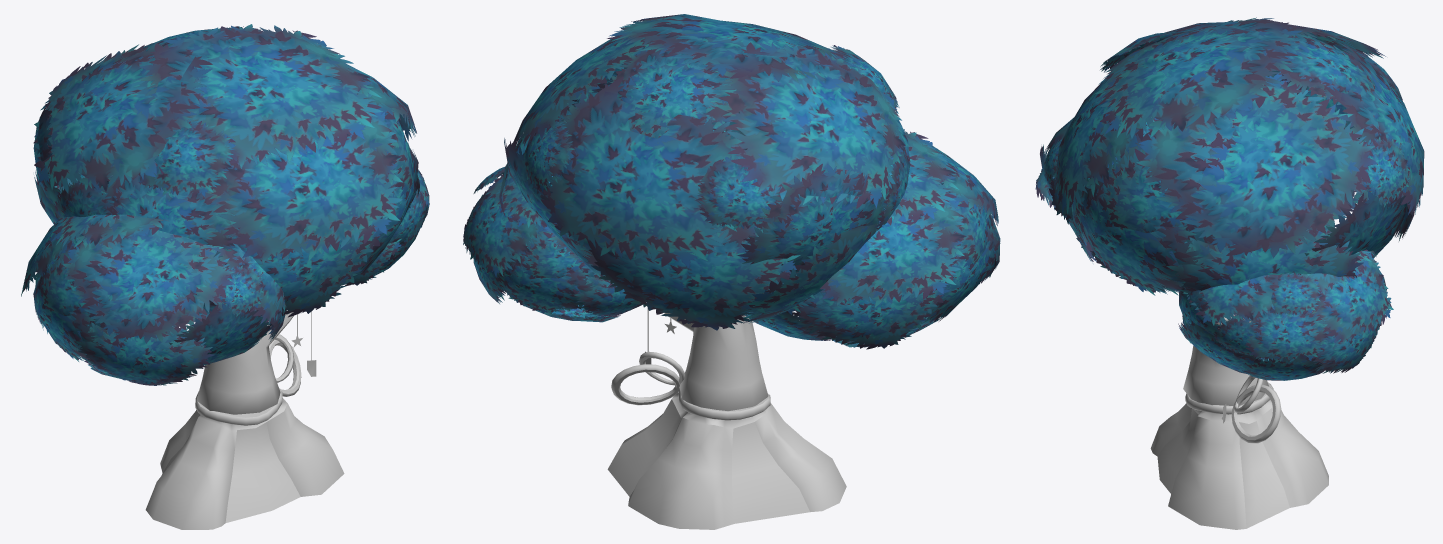
Rendered from SM_Enviro_TanukiHome.fbx.
The picture shows the model from 3 angles, left to right: view 1: azimuth 30°, elevation 25°; view 2: azimuth 150°, elevation 25°; view 3: azimuth 270°, elevation 25°; orthographic projection. The views are drawn at different scales.
Parts seen in each view (by area): view 1: SM_Enviro_TanukiHome_Leaves, SM_Enviro_TanukiHome_Wood, SM_Enviro_TanukiHome_Belt; view 2: SM_Enviro_TanukiHome_Leaves, SM_Enviro_TanukiHome_Wood, SM_Enviro_TanukiHome_Belt; view 3: SM_Enviro_TanukiHome_Leaves, SM_Enviro_TanukiHome_Wood, SM_Enviro_TanukiHome_Belt.
Part boxes in pixels (x1,y1,x2,y2): SM_Enviro_TanukiHome_Leaves: (21, 24, 429, 385); SM_Enviro_TanukiHome_Wood: (145, 310, 344, 529); SM_Enviro_TanukiHome_Belt: (195, 334, 301, 425); SM_Enviro_TanukiHome_Leaves: (463, 14, 1000, 349); SM_Enviro_TanukiHome_Wood: (607, 312, 846, 529); SM_Enviro_TanukiHome_Belt: (611, 351, 770, 420); SM_Enviro_TanukiHome_Leaves: (1035, 17, 1424, 380); SM_Enviro_TanukiHome_Wood: (1150, 314, 1328, 529); SM_Enviro_TanukiHome_Belt: (1185, 375, 1281, 443).
Size of the model in its own units: 1423 by 1347 by 1110.
